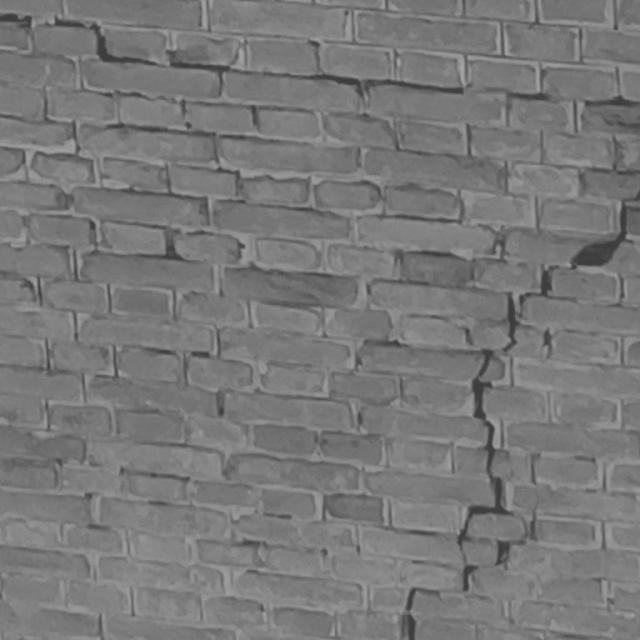crack: (402, 191, 639, 640), (1, 12, 640, 106)
